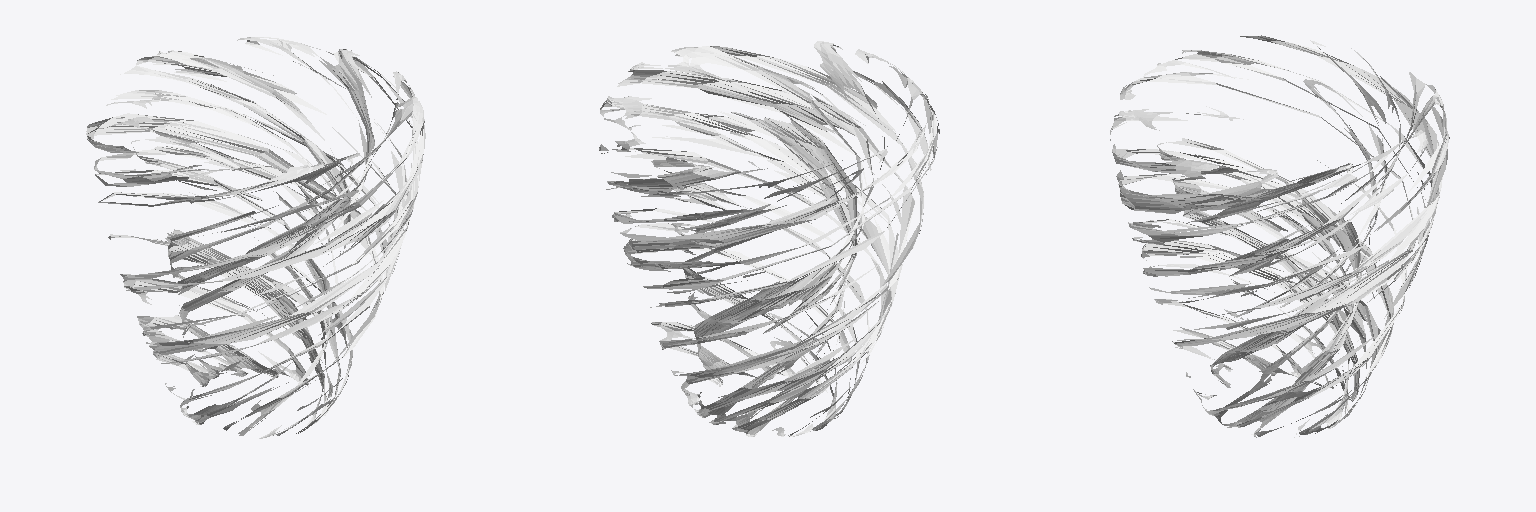
Rendered from Spiral2.obj.
3 renders of one model, left to right at view 1: azimuth 30°, elevation 25°; view 2: azimuth 150°, elevation 25°; view 3: azimuth 270°, elevation 25°, orthographic.
Visible parts, largest first — view 1: Spiral1; view 2: Spiral1; view 3: Spiral1.
Part boxes in pixels (bbox=[...]): Spiral1: bbox=[86, 37, 425, 438]; Spiral1: bbox=[599, 41, 939, 436]; Spiral1: bbox=[1110, 35, 1449, 437].
Size of the model in its own units: 10 by 10 by 10.